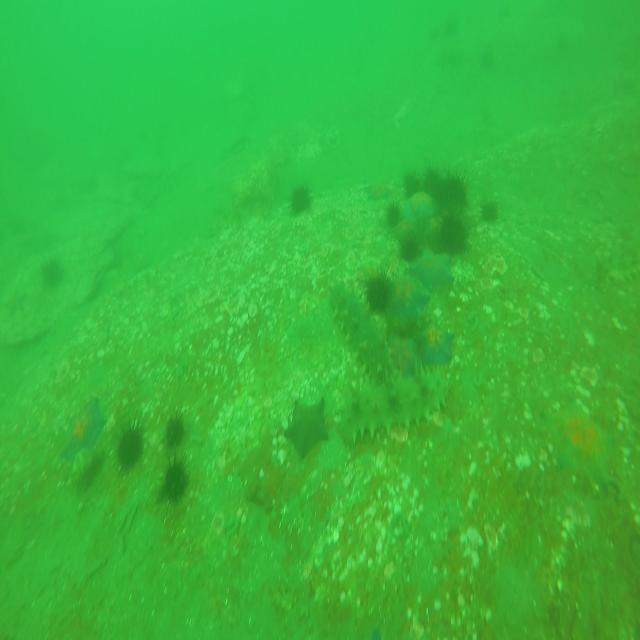echinus: (157, 453, 192, 510), (112, 418, 147, 474), (365, 262, 393, 318), (440, 211, 470, 259), (442, 170, 470, 208), (396, 231, 422, 268), (424, 162, 447, 202), (40, 254, 63, 290), (164, 411, 186, 448), (289, 179, 308, 215), (384, 199, 404, 226), (400, 171, 418, 195), (482, 200, 498, 225)
holothurian: (334, 367, 452, 450), (327, 276, 394, 381)
starfish: (536, 395, 621, 489), (282, 397, 329, 460), (64, 400, 109, 462), (387, 272, 425, 327), (421, 321, 456, 369), (427, 251, 452, 294)
